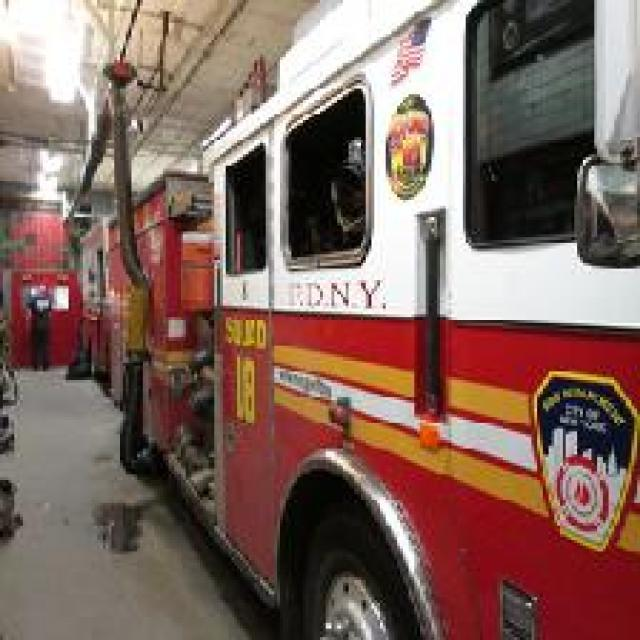emergency: (95, 1, 638, 638)
